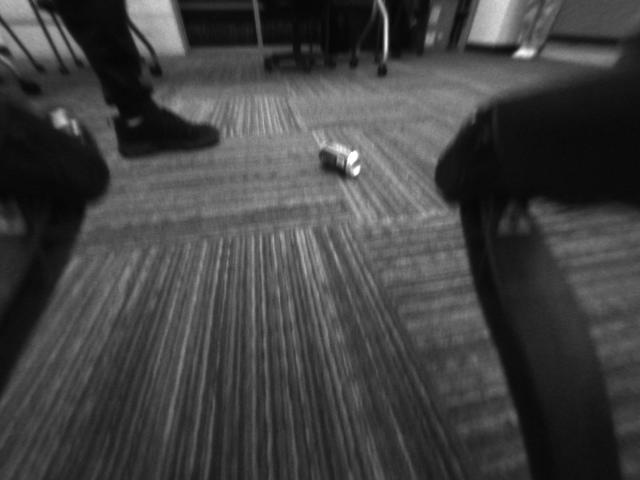can: (311, 131, 368, 179)
